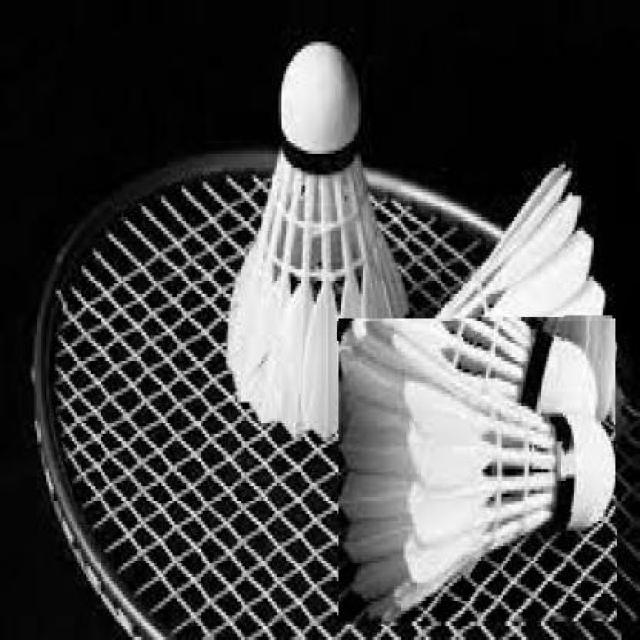Shuttlecock: (340, 319, 614, 622)
